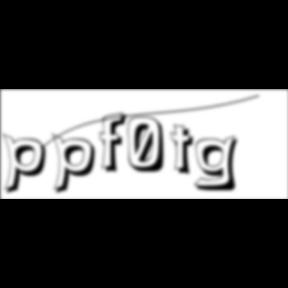0: (128, 115, 172, 174)
f: (100, 111, 132, 175)
g: (194, 134, 246, 194)
p: (3, 132, 53, 198), (52, 132, 102, 198)
t: (171, 124, 202, 179)
